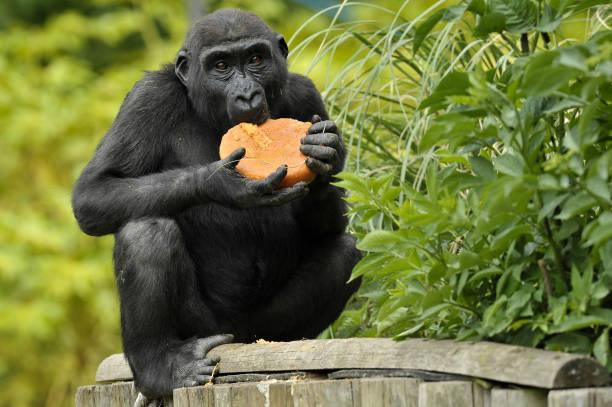gorille_Autres: (67, 0, 409, 378)
